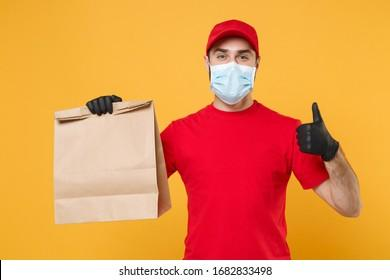gloves: (297, 102, 340, 162), (86, 95, 124, 116)
